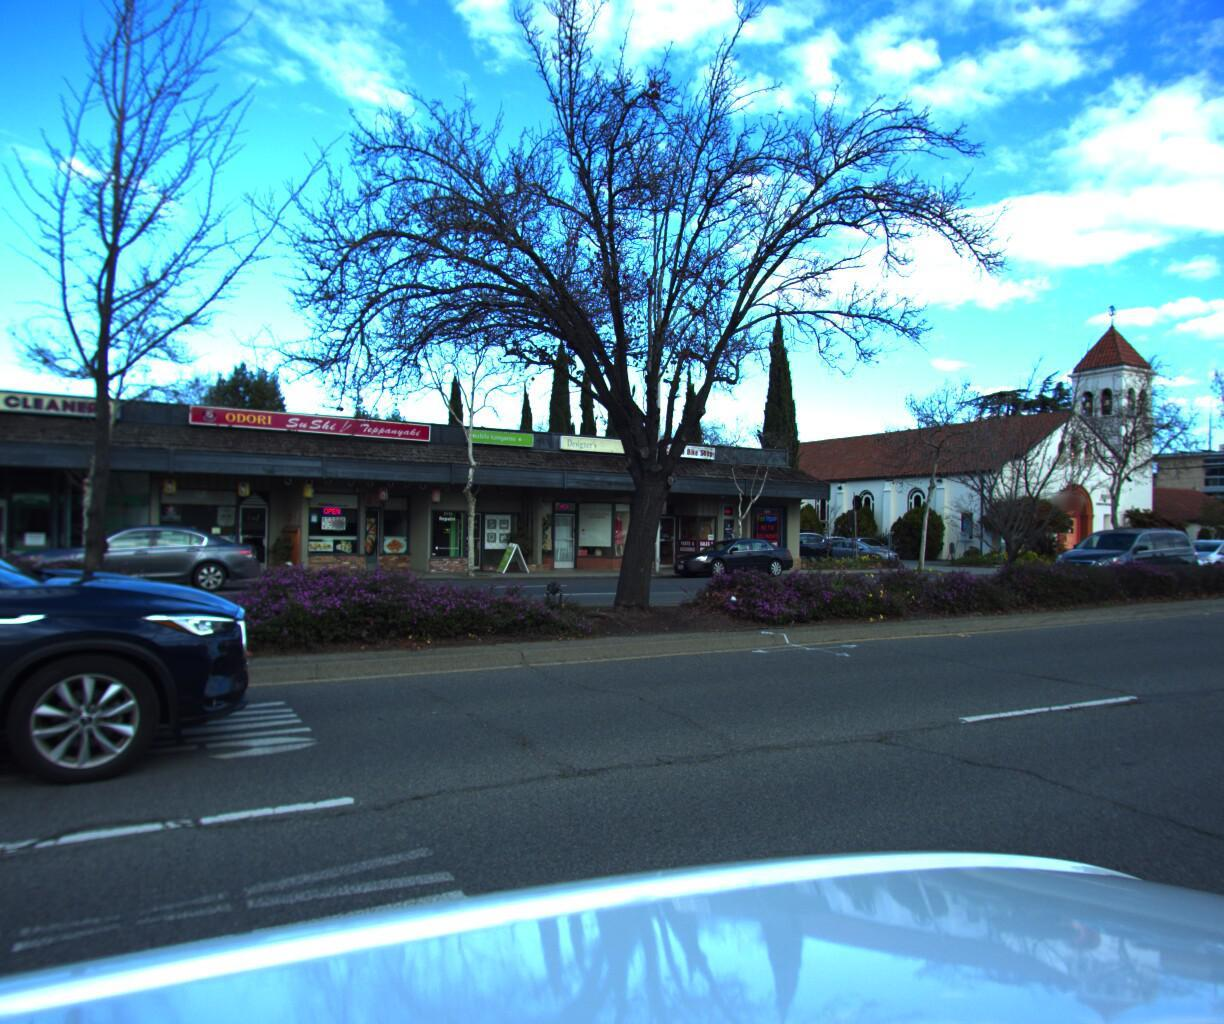car: (1040, 517, 1204, 583), (660, 532, 799, 578), (744, 525, 840, 564), (801, 532, 899, 564), (1160, 533, 1224, 573)
